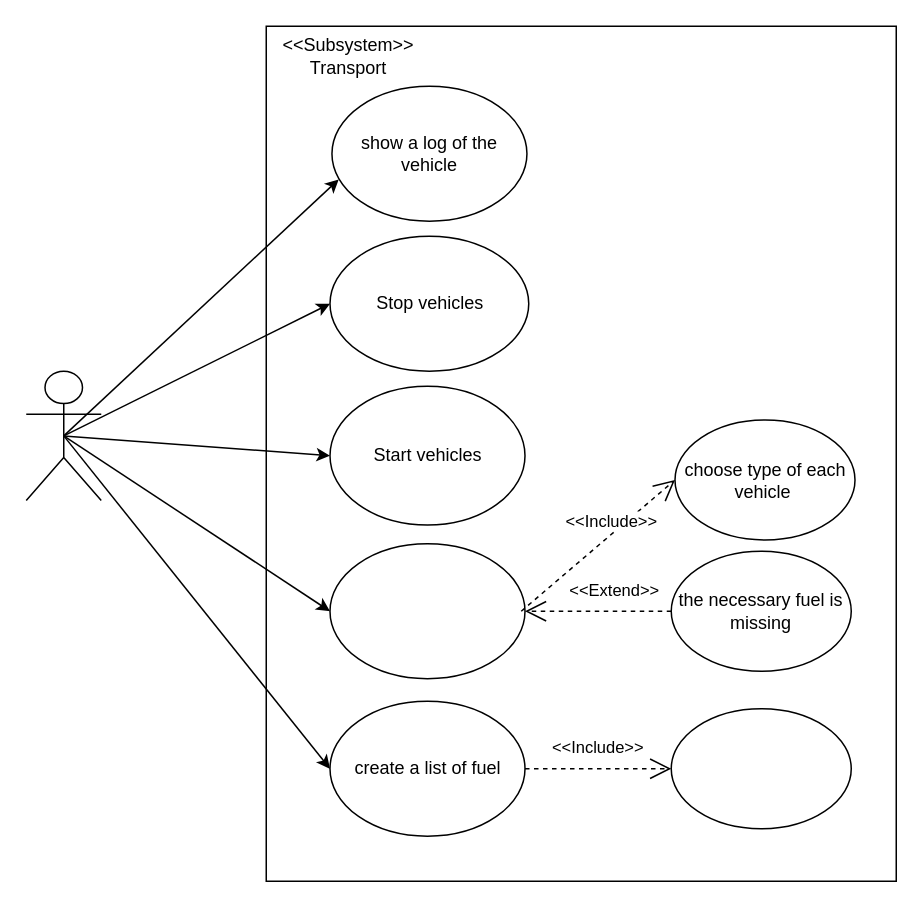
The diagram is 923 pixels wide and 908 high, and some of its shapes have lost their labels. Each missing label, with the centre of its shape:
choose type of fuel: point 760,768
create 5 vehicles: point 426,610
User: point 63,435
